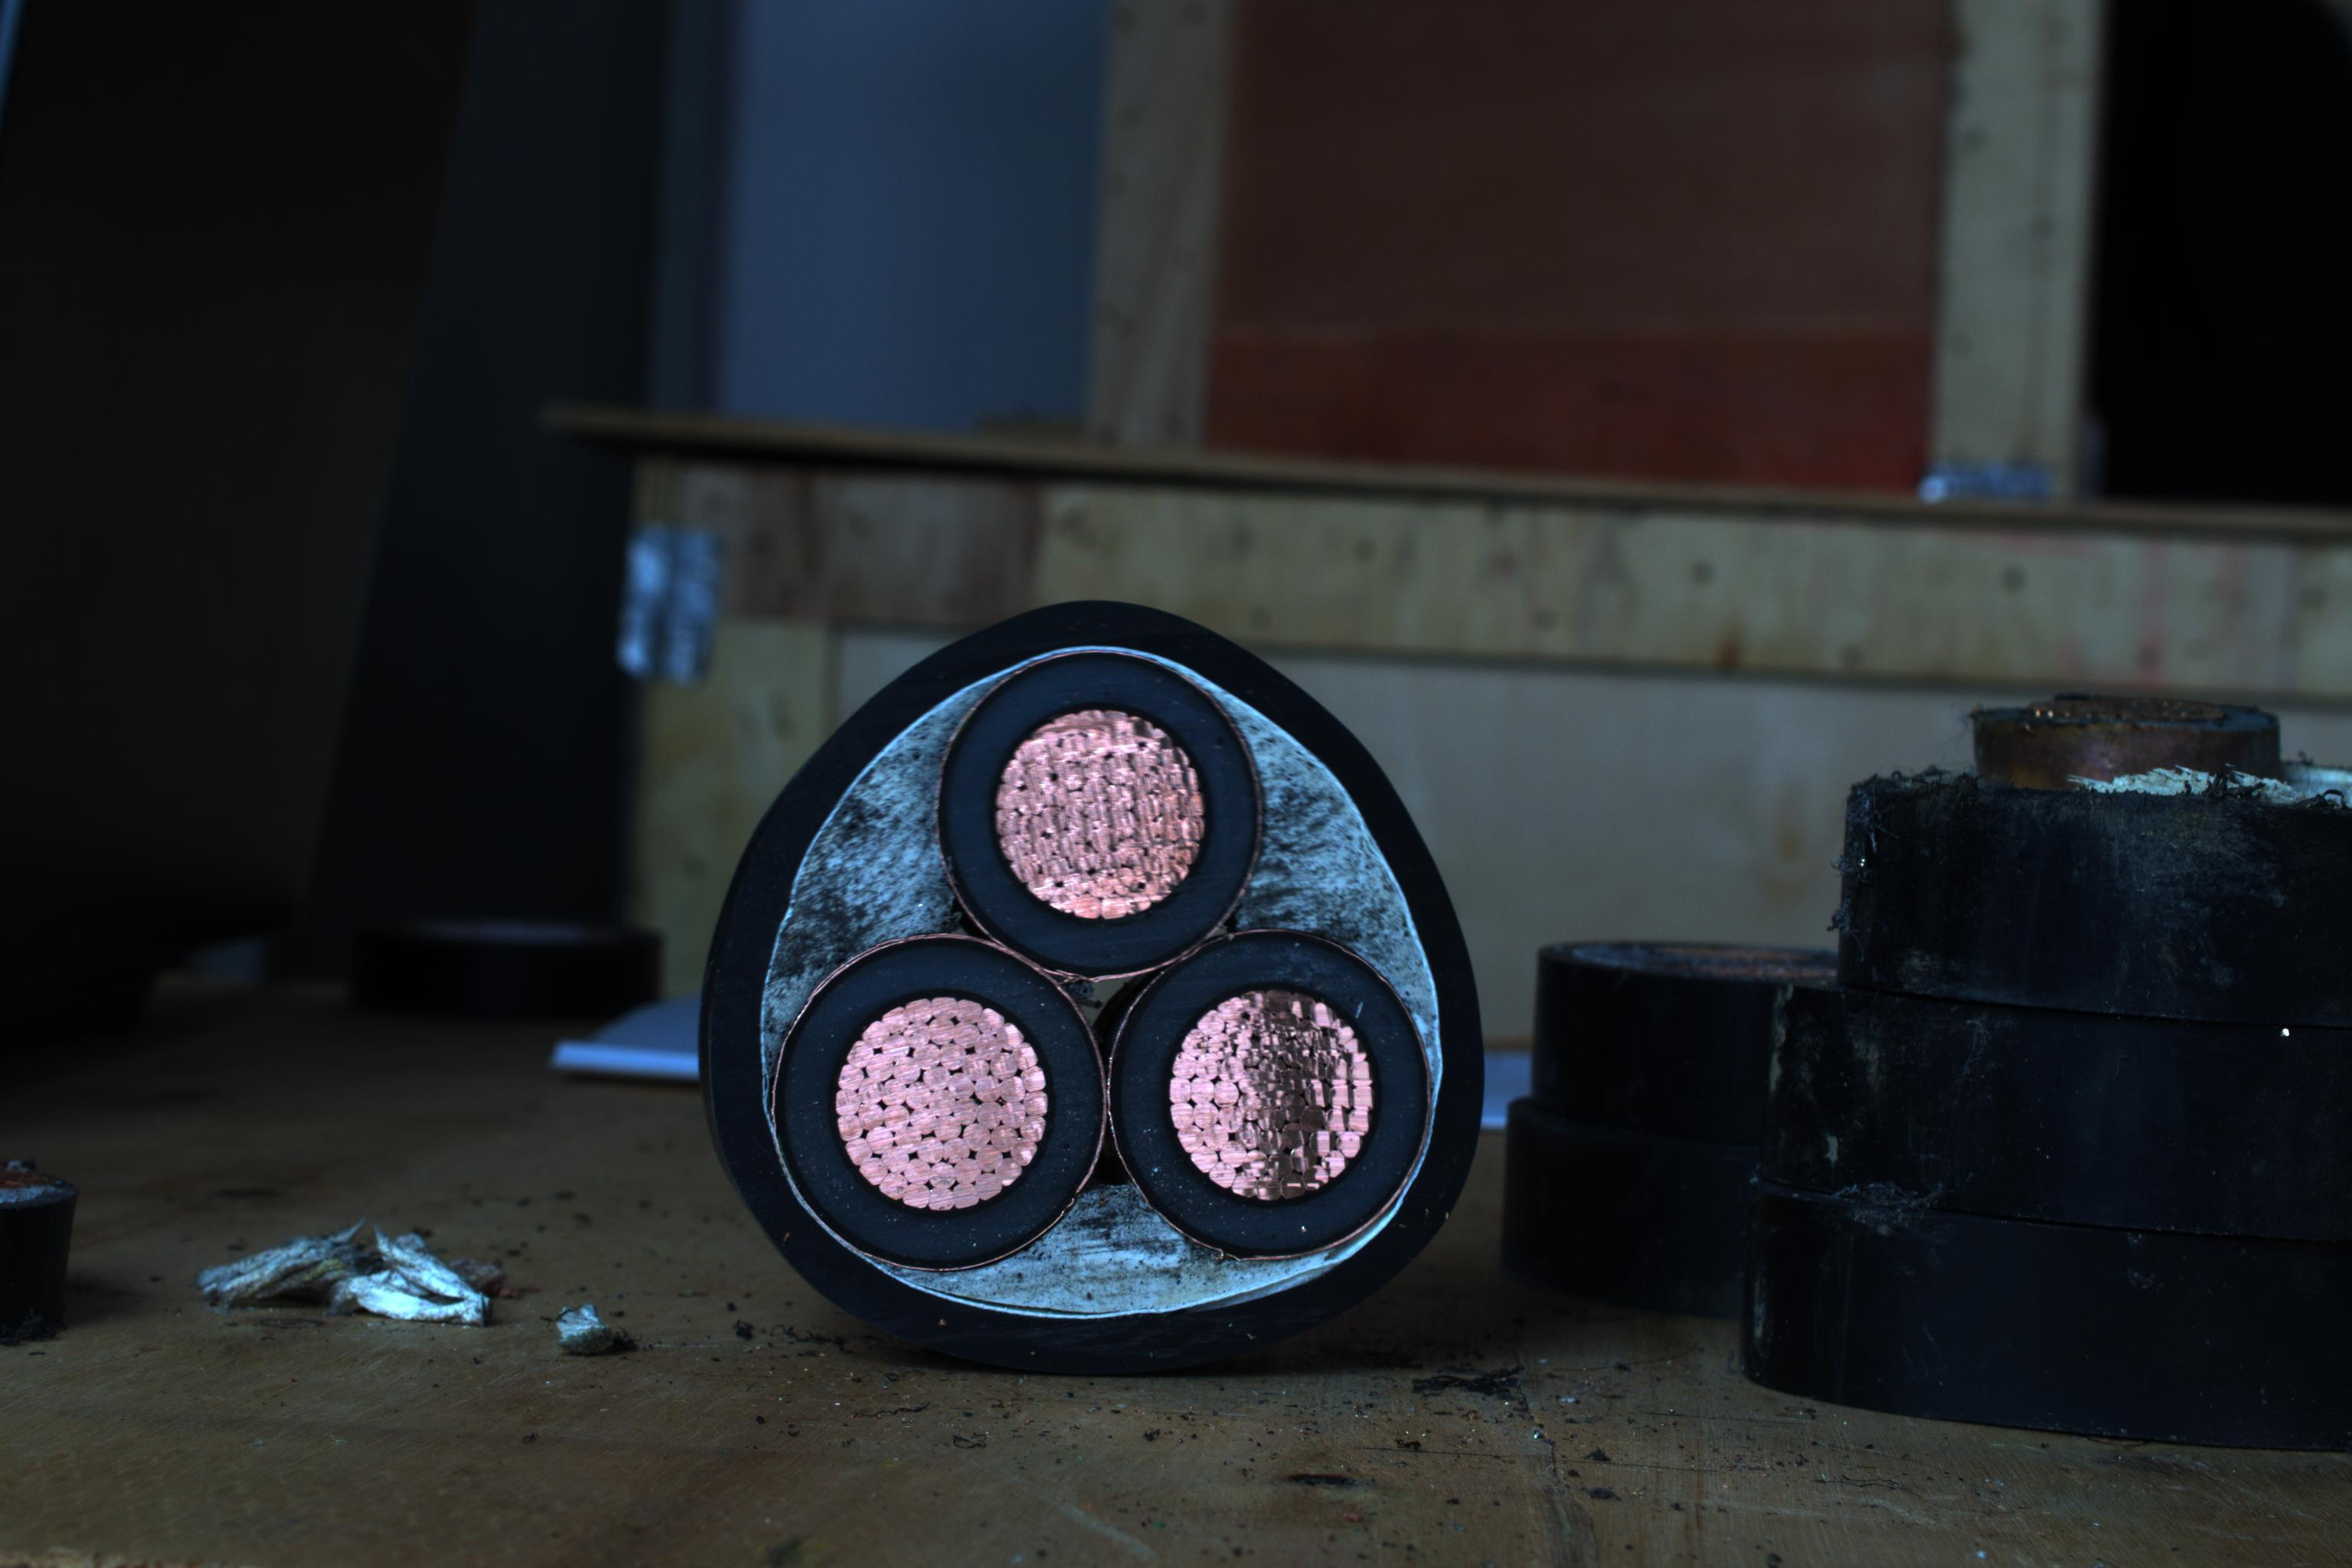ZA_YJV_8.7_10kV_3x400: (668, 595, 1517, 1347)
